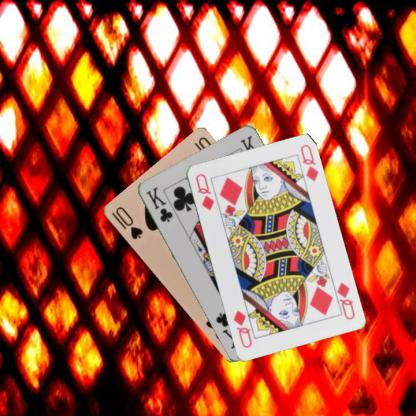10s: (108, 204, 144, 241)
Kc: (143, 184, 174, 224)
Qd: (329, 279, 356, 321), (192, 170, 216, 212)
